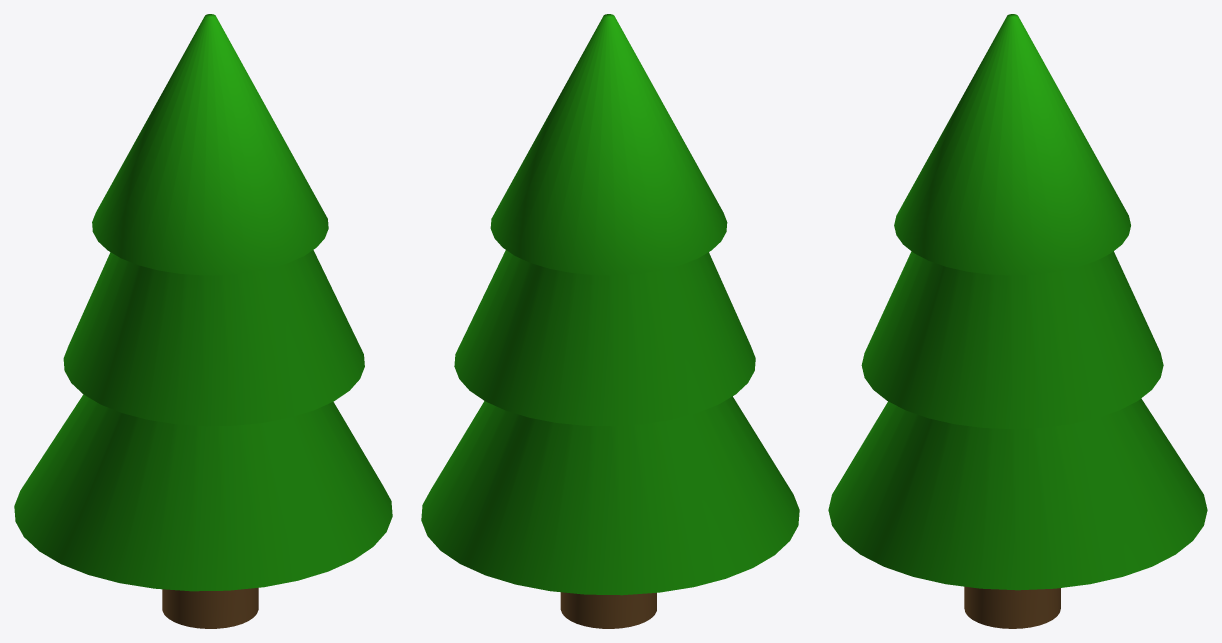
The model's file is Arbol_vivo.fbx.
3 renders of one model, left to right at view 1: azimuth 30°, elevation 25°; view 2: azimuth 150°, elevation 25°; view 3: azimuth 270°, elevation 25°, orthographic.
Parts seen in each view (by area): view 1: Pino.004; view 2: Pino.004; view 3: Pino.004.
Part boxes in pixels (bbox=[...]): Pino.004: bbox=[14, 14, 392, 628]; Pino.004: bbox=[421, 14, 799, 628]; Pino.004: bbox=[828, 14, 1207, 628].
Bounding box in the file's own units: 175 × 301 × 175.
